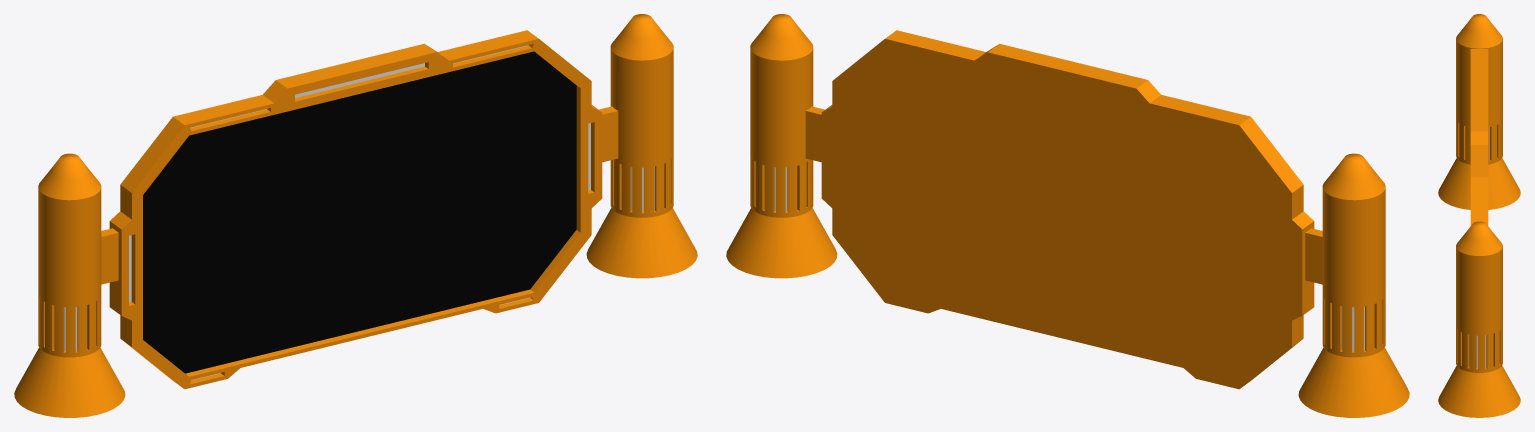
Rendered from billboard.fbx.
3 renders of one model, left to right at view 1: azimuth 30°, elevation 25°; view 2: azimuth 150°, elevation 25°; view 3: azimuth 270°, elevation 25°, orthographic. The views are drawn at different scales.
Parts seen in each view (by area): view 1: Cube.001, Cylinder; view 2: Cube.001, Cylinder; view 3: Cylinder, Cube.001.
Boxes of the visible parts, <box> form: Cube.001: <box>109,30,602,389</box>; Cylinder: <box>14,14,697,417</box>; Cube.001: <box>821,30,1314,389</box>; Cylinder: <box>726,14,1409,417</box>; Cylinder: <box>1438,14,1520,417</box>; Cube.001: <box>1470,49,1488,225</box>.
Bounding box in the file's own units: 890 × 351 × 128.
